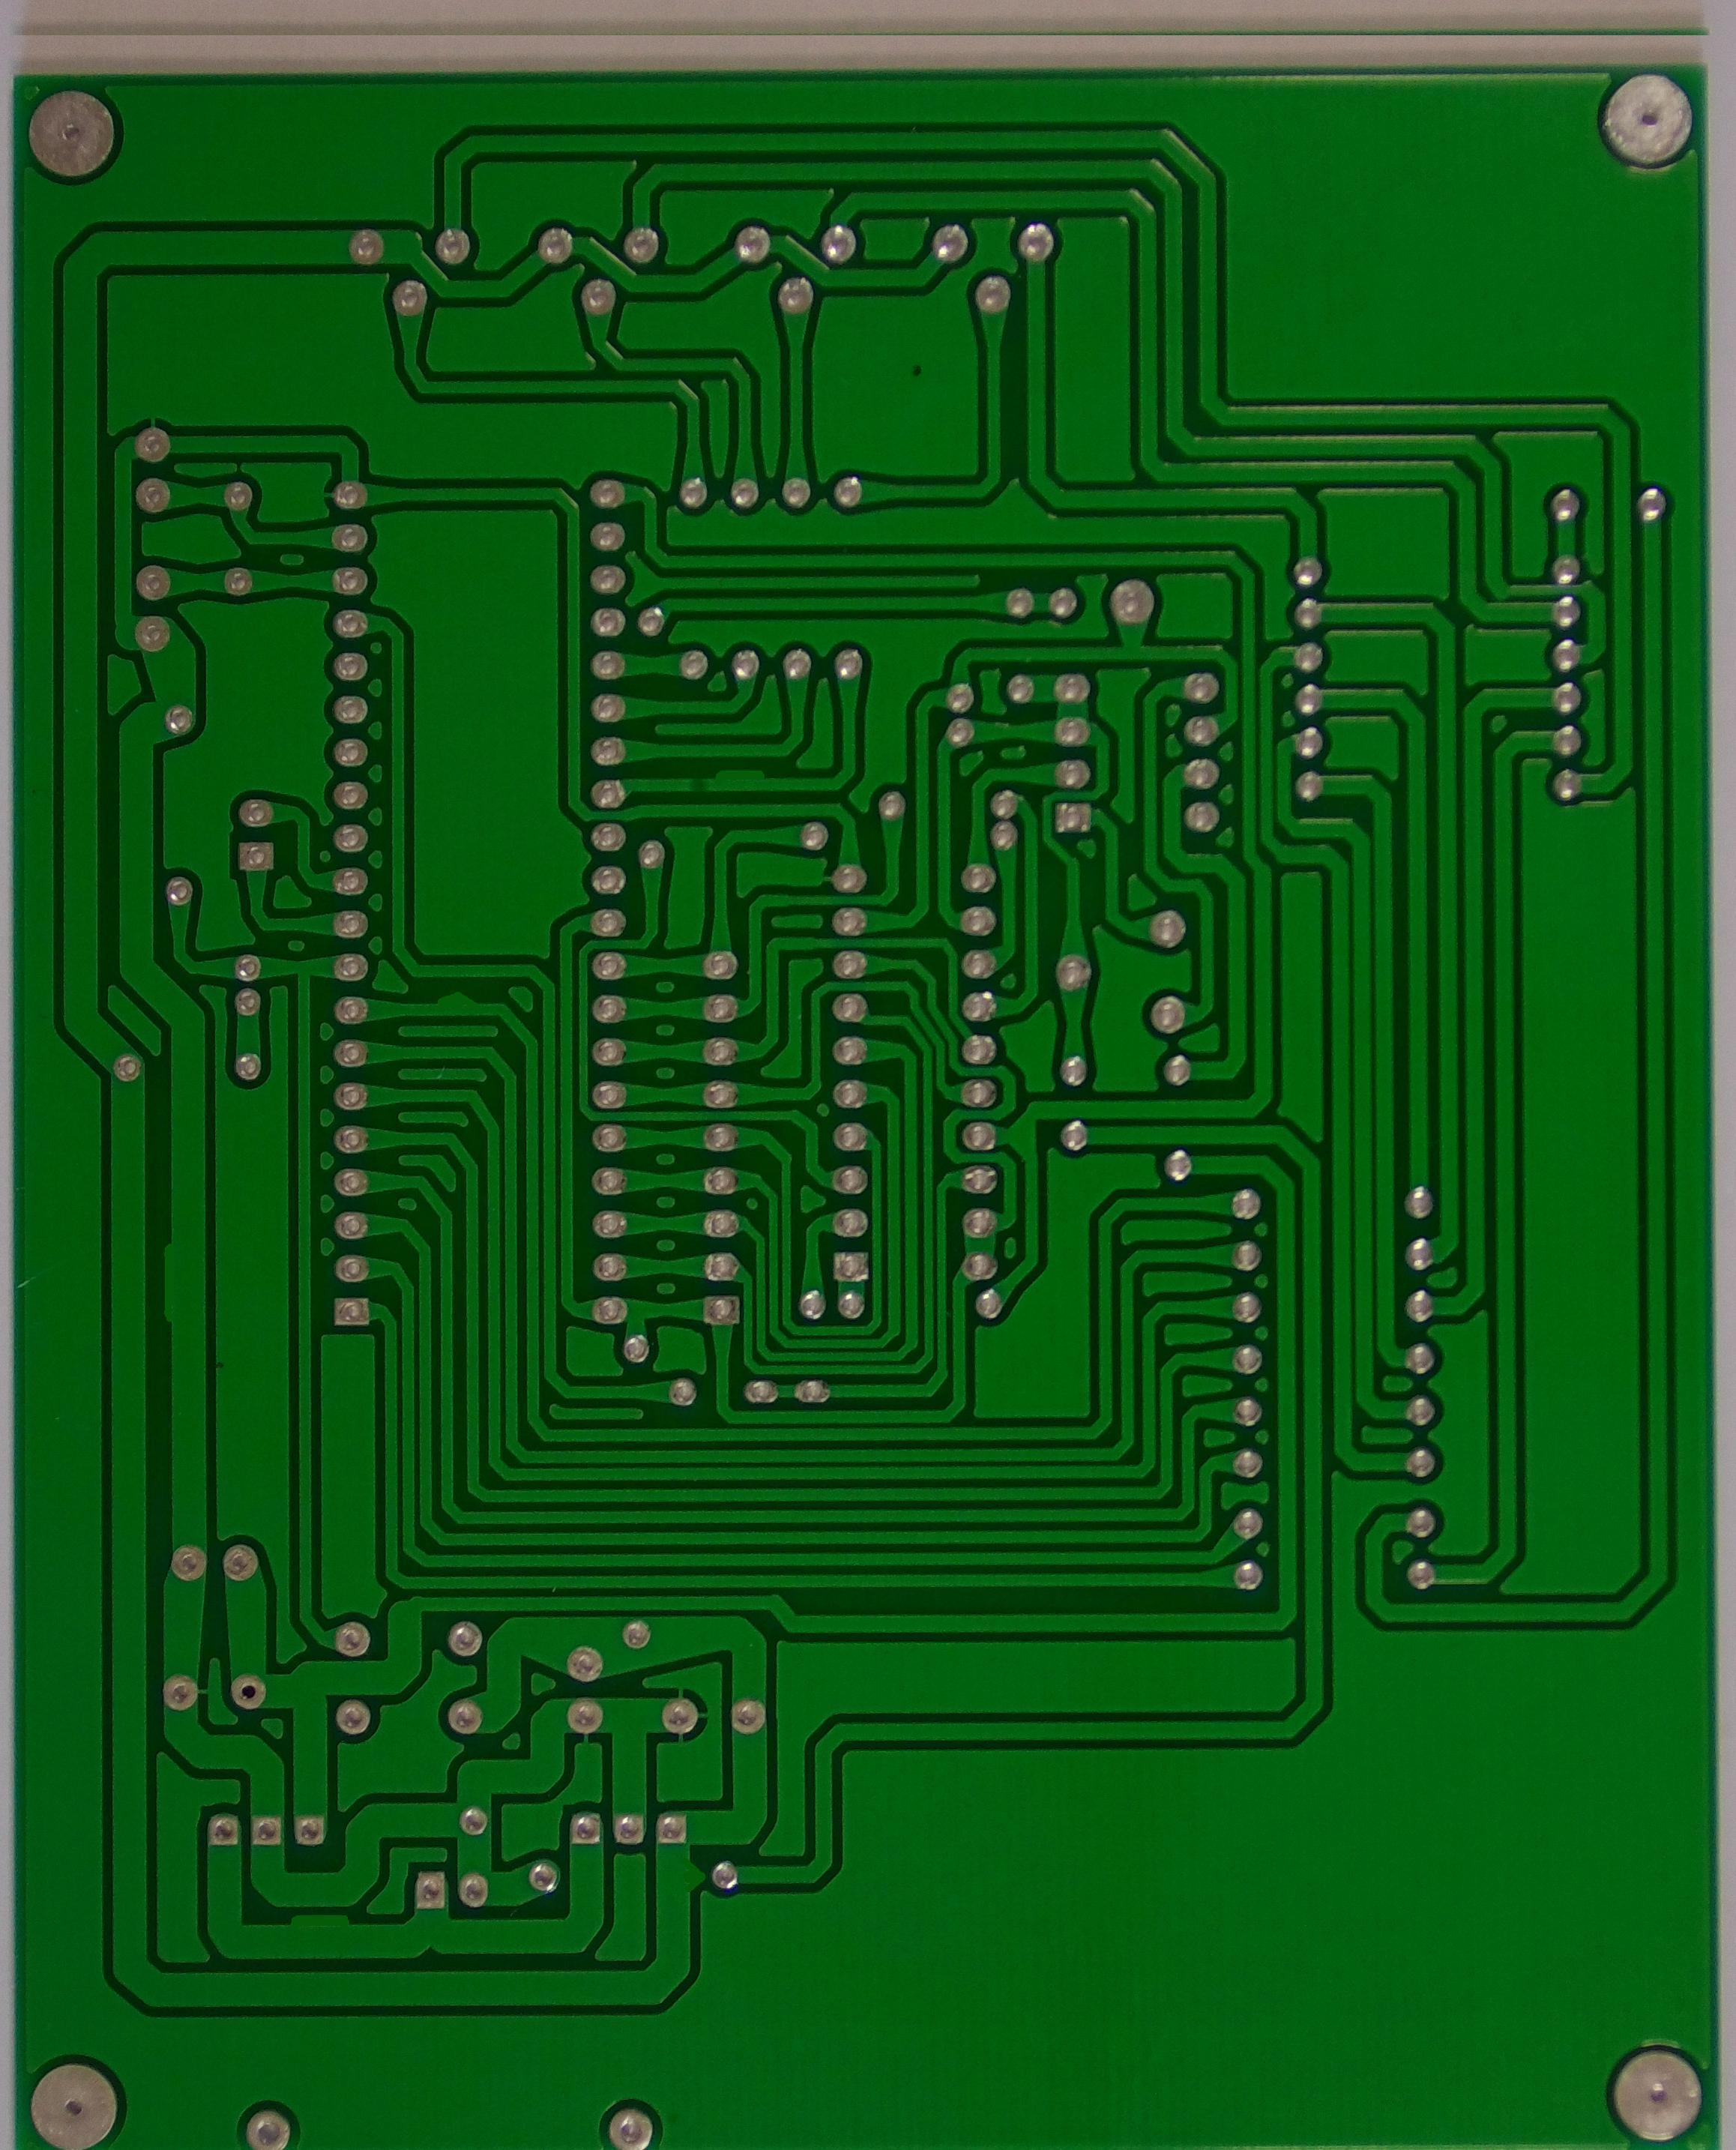spur: (147, 1240, 190, 1332), (703, 762, 779, 792), (280, 1907, 360, 1936), (677, 1854, 709, 1906), (429, 986, 484, 1015)
